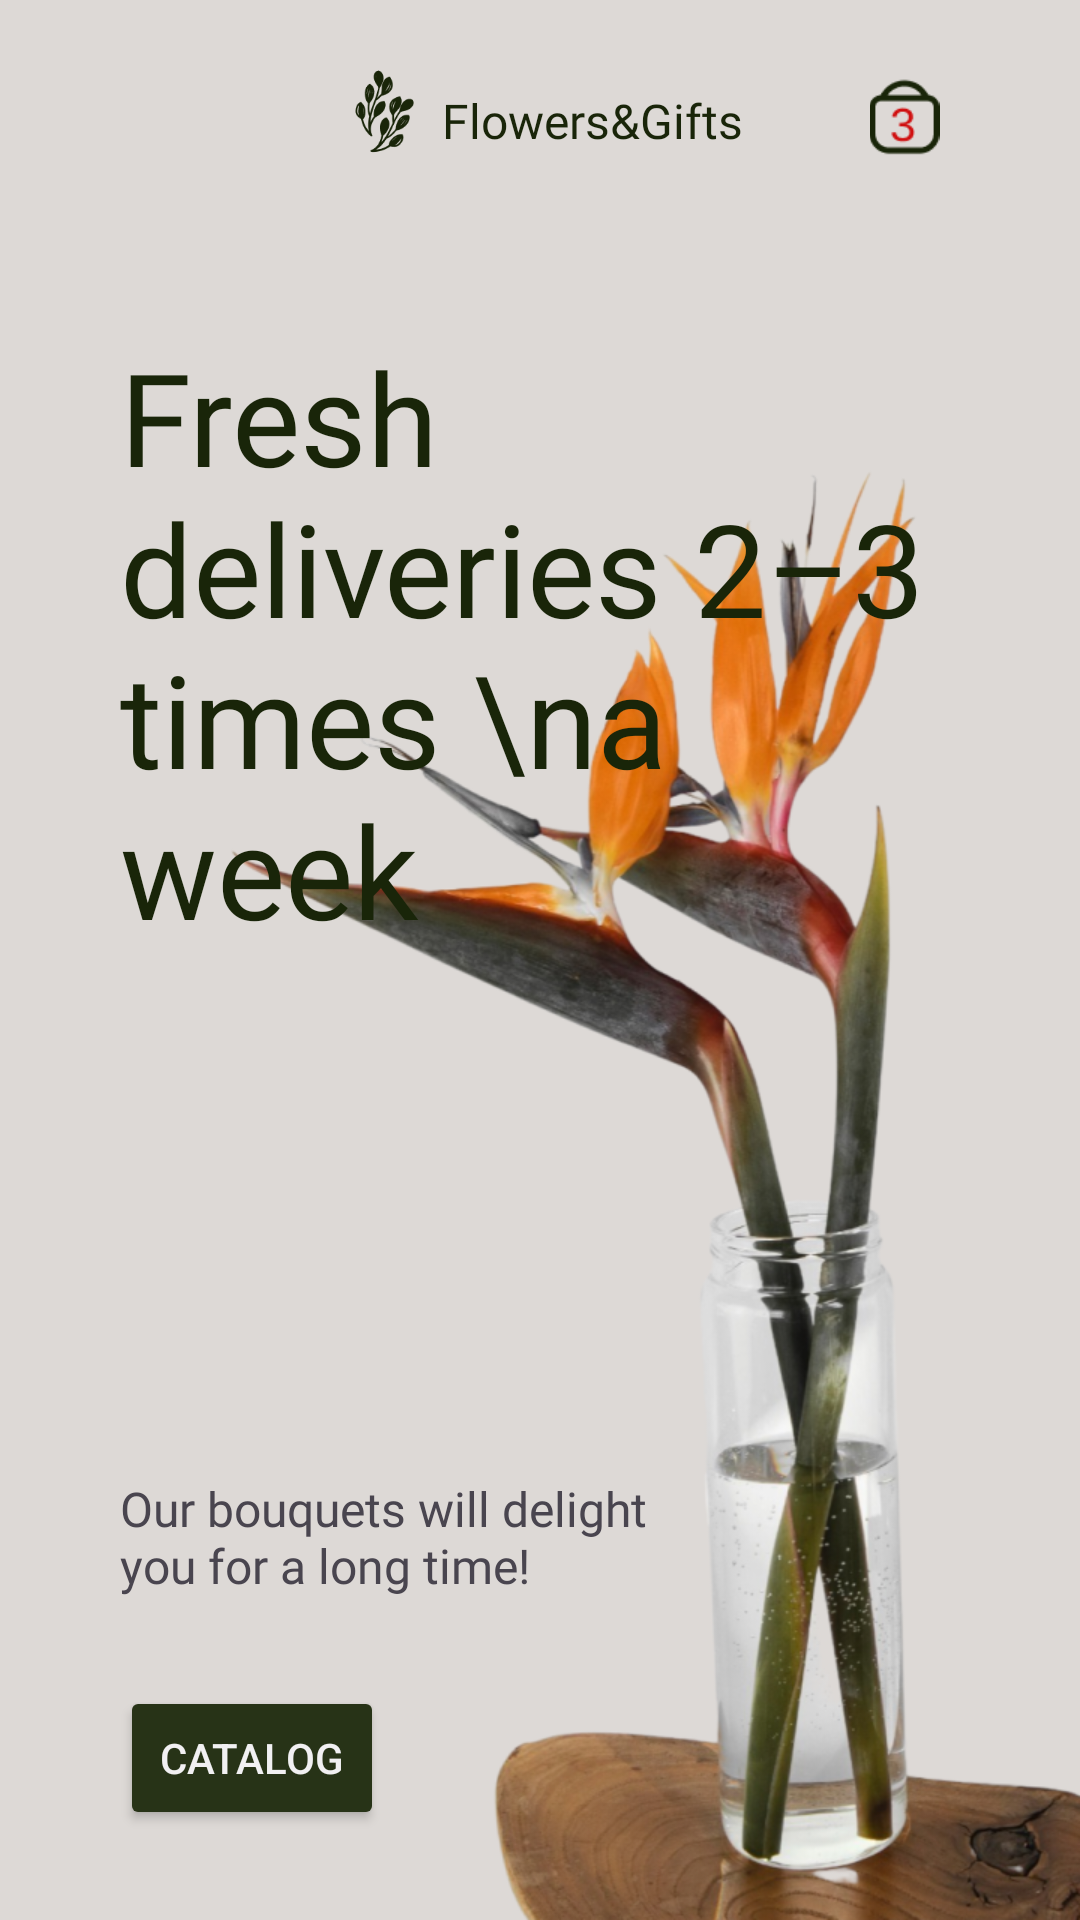

Icon bounding boxes for this 1080 x 1920 phone screenshot, format (x1, y1, x2, y2):
basket: (870, 79, 940, 154)
